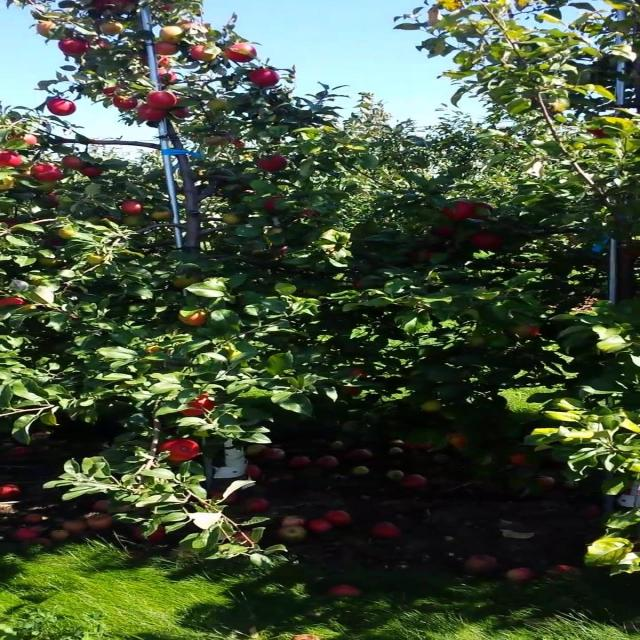apple: (158, 439, 200, 462), (180, 392, 216, 416), (222, 42, 258, 62), (442, 200, 473, 221), (133, 50, 169, 68), (44, 96, 76, 116), (91, 0, 136, 14), (249, 68, 280, 88), (31, 164, 64, 182), (147, 90, 178, 109), (256, 155, 289, 172), (469, 232, 502, 249), (58, 38, 89, 56), (189, 45, 222, 61), (137, 344, 166, 361), (138, 104, 167, 121), (178, 309, 207, 326), (343, 364, 373, 380), (509, 324, 540, 339), (171, 274, 202, 288), (410, 246, 437, 262), (160, 25, 184, 43), (88, 0, 120, 13), (111, 95, 138, 110), (104, 0, 137, 12), (36, 20, 58, 38), (36, 192, 60, 208), (204, 132, 231, 146), (429, 224, 456, 238), (62, 155, 87, 170), (98, 21, 124, 35), (473, 202, 493, 219), (264, 195, 284, 212), (176, 18, 202, 31), (207, 98, 233, 111), (82, 251, 106, 265), (153, 42, 178, 55), (294, 206, 321, 218), (159, 68, 178, 85), (220, 212, 244, 225), (348, 277, 370, 291), (337, 384, 362, 396), (120, 200, 140, 215), (102, 84, 127, 96), (464, 335, 487, 348), (149, 209, 173, 221), (40, 236, 64, 248), (169, 106, 191, 119), (123, 215, 149, 226), (58, 225, 78, 239), (273, 243, 294, 256), (2, 217, 21, 231), (80, 166, 102, 178), (420, 400, 442, 412), (154, 54, 172, 68), (102, 213, 124, 224), (38, 258, 64, 267), (20, 134, 38, 146), (157, 0, 176, 11), (193, 167, 210, 179), (228, 136, 244, 148), (93, 38, 109, 49)
